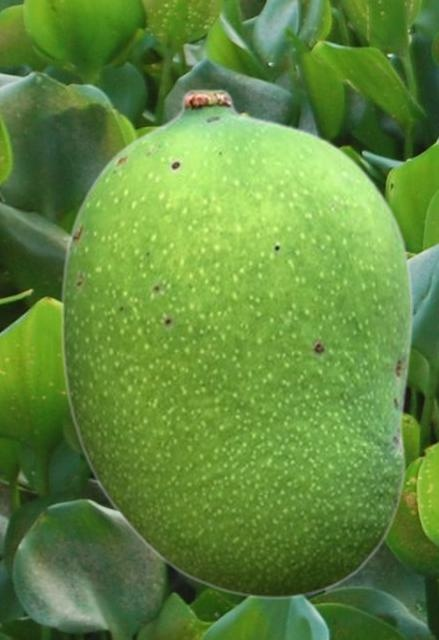green_mango: (59, 87, 412, 599)
